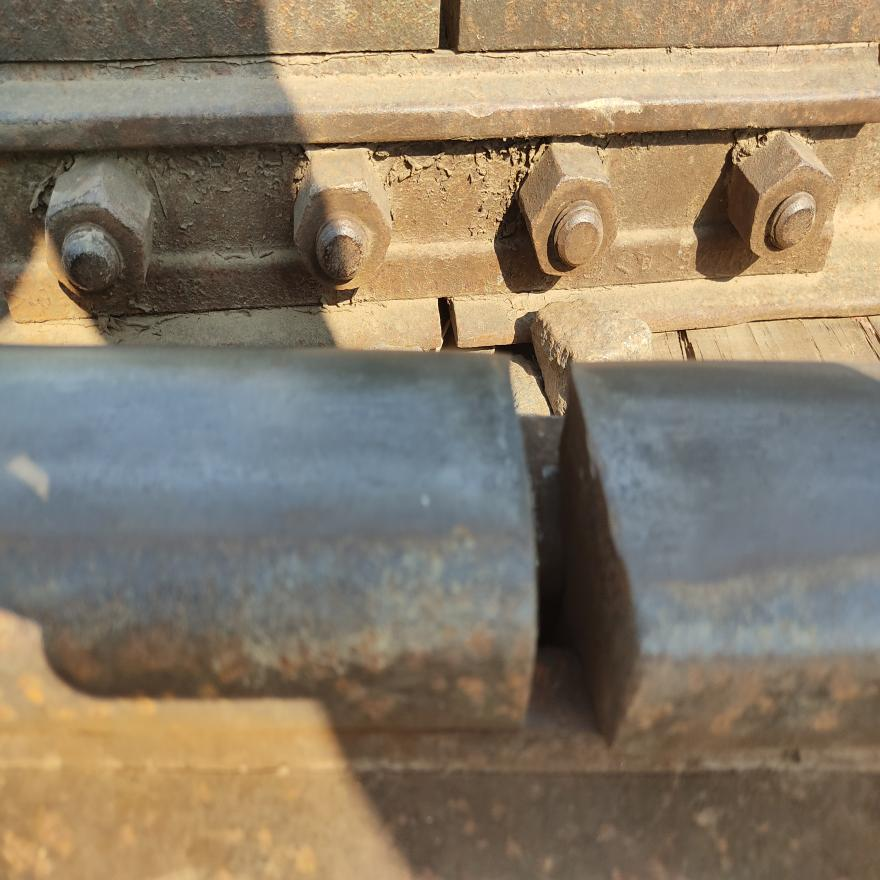railway-gap: (422, 357, 708, 780), (409, 0, 494, 57), (421, 294, 474, 354)
